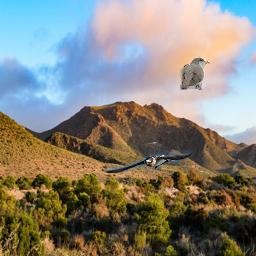Cuckoo: (180, 57, 210, 90)
Swallow: (104, 150, 193, 173)
